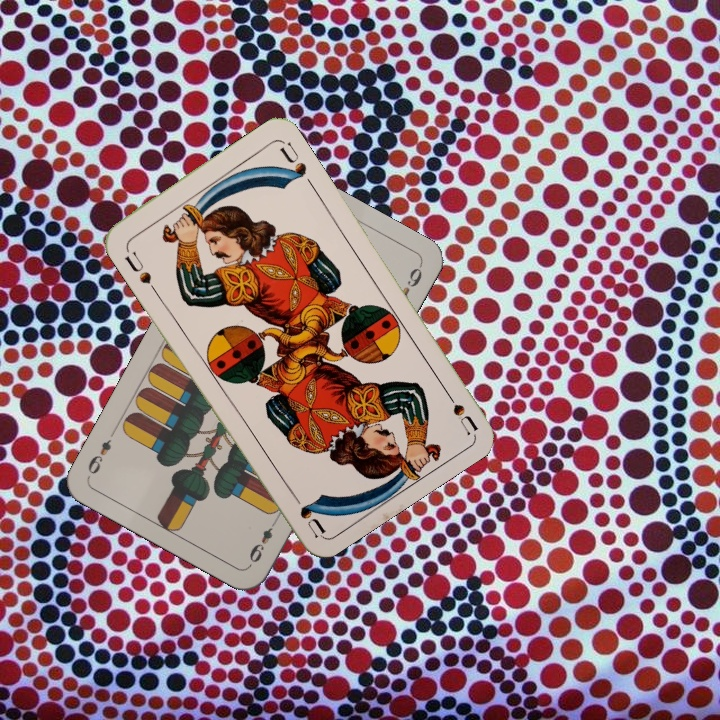E9: (245, 514, 281, 566)
SU: (438, 381, 479, 436), (120, 242, 160, 295)
